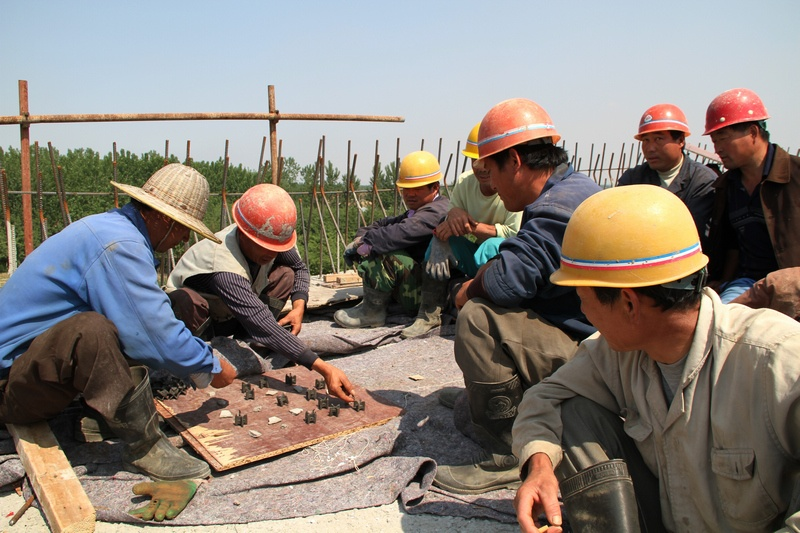none: (127, 162, 208, 247)
red: (479, 98, 558, 207), (231, 182, 298, 263), (702, 91, 766, 172), (634, 107, 691, 172)
yellow: (549, 179, 706, 364), (391, 153, 443, 209), (463, 125, 491, 187)
